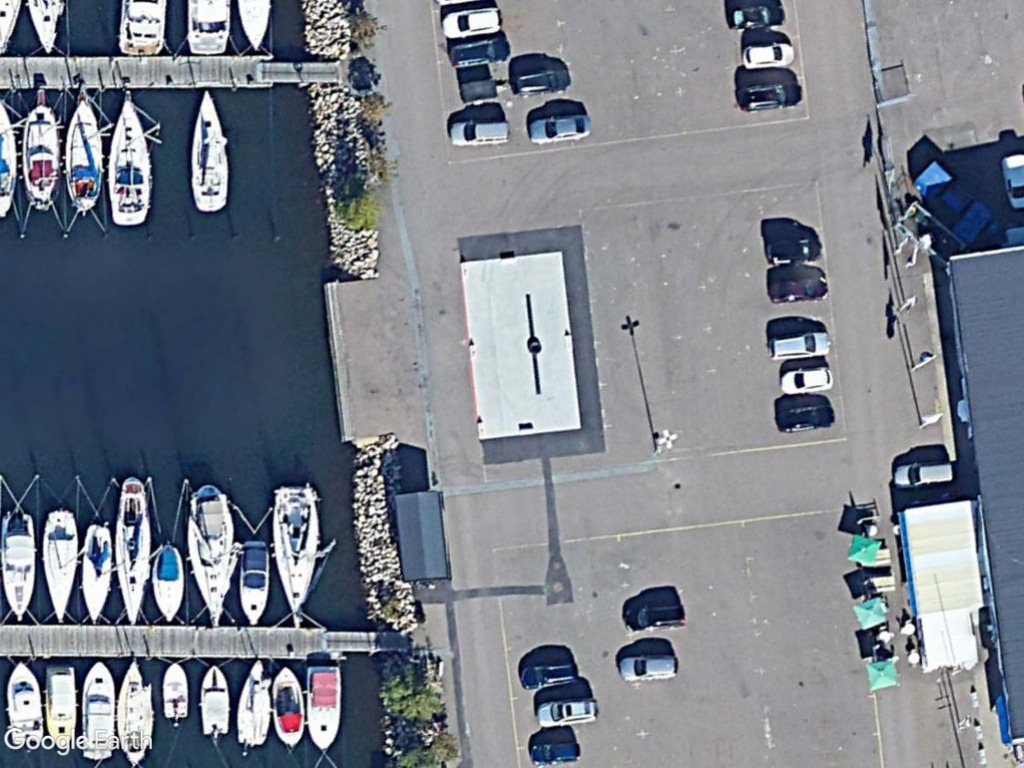boat: (181, 481, 243, 629), (266, 478, 328, 620), (104, 93, 154, 230), (112, 475, 156, 627), (185, 87, 231, 214), (18, 101, 64, 214), (63, 92, 105, 214), (40, 505, 82, 627), (113, 656, 158, 768), (0, 507, 41, 625), (76, 519, 118, 625), (79, 658, 118, 765), (301, 660, 344, 753), (234, 657, 274, 748), (237, 536, 273, 628), (196, 660, 235, 740), (150, 541, 187, 622), (271, 663, 305, 751), (159, 659, 192, 725)
car: (437, 3, 508, 43), (730, 78, 806, 115), (445, 32, 515, 72), (619, 597, 689, 637), (762, 327, 835, 365), (525, 107, 596, 146), (513, 654, 581, 693), (510, 62, 577, 101), (612, 648, 682, 685), (533, 693, 602, 730), (443, 114, 513, 150), (762, 272, 831, 306), (772, 399, 837, 433), (760, 234, 824, 268), (778, 362, 840, 396), (738, 38, 797, 72), (526, 738, 585, 768)
van: (886, 455, 959, 495)
